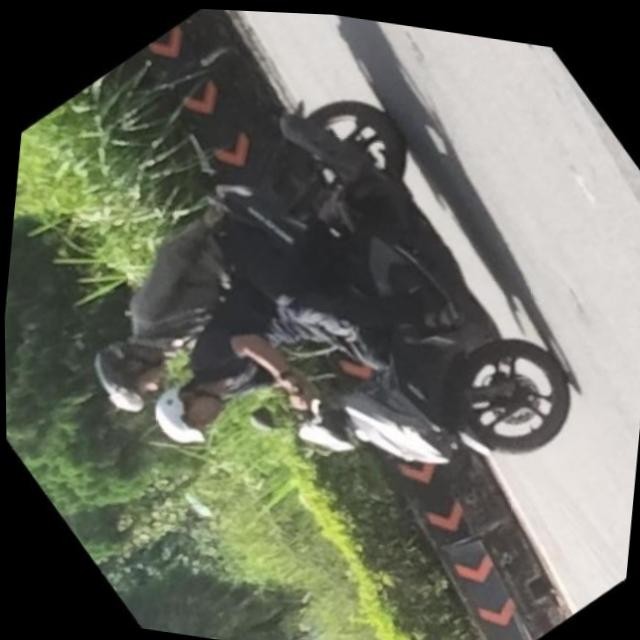WITH_HELMET: (74, 331, 162, 422), (141, 376, 219, 458)
